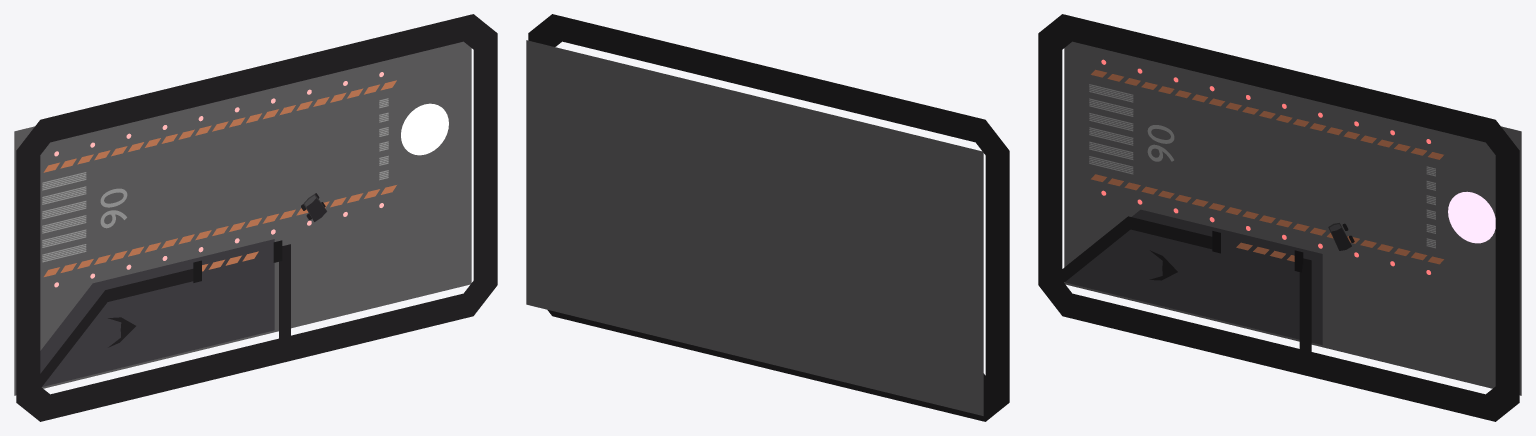
Rendered from Local.glb.
The picture shows the model from 3 angles, left to right: view 1: azimuth 30°, elevation 25°; view 2: azimuth 150°, elevation 25°; view 3: azimuth 330°, elevation 25°; orthographic projection.
Parts seen in each view (by area): view 1: Floor, Border, DockingFloor, TrackLeft, DockingBlocker.001, MatchmakePortal, WarningBar, WarningBar.002, DockingBlocker, TrackRight, Text; view 2: Floor, Border; view 3: Floor, Border, DockingFloor, TrackLeft, DockingBlocker.001, MatchmakePortal, WarningBar, WarningBar.002, DockingBlocker, TrackRight, Text.
Part boxes in pixels (x1,y1,x2,y2): Floor: [14, 41, 471, 395]; Border: [16, 14, 497, 421]; DockingFloor: [40, 239, 274, 386]; TrackLeft: [42, 172, 86, 262]; DockingBlocker.001: [40, 269, 193, 386]; MatchmakePortal: [401, 103, 448, 155]; WarningBar: [43, 80, 396, 172]; WarningBar.002: [44, 185, 396, 276]; DockingBlocker: [279, 244, 290, 348]; TrackRight: [379, 98, 388, 180]; Text: [100, 188, 127, 228]; Floor: [526, 40, 983, 415]; Border: [528, 14, 1009, 421]; Floor: [1064, 41, 1521, 395]; Border: [1038, 14, 1519, 421]; DockingFloor: [1065, 209, 1322, 345]; TrackLeft: [1089, 84, 1133, 174]; DockingBlocker.001: [1062, 216, 1212, 282]; MatchmakePortal: [1448, 191, 1495, 243]; WarningBar: [1091, 69, 1443, 159]; WarningBar.002: [1091, 174, 1443, 264]; DockingBlocker: [1299, 258, 1311, 362]; TrackRight: [1426, 166, 1435, 248]; Text: [1147, 125, 1174, 161].
Bounding box in the file's own units: 2000 × 1200 × 112.
